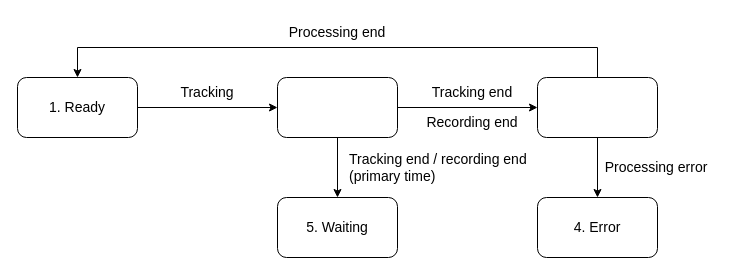
Image size: 729x275. Some labels were removed from this diagram. Each missing label, with the centre of its shape:
"2. Record" goes at pixel 337 107.
"3. Process" goes at pixel 597 107.
